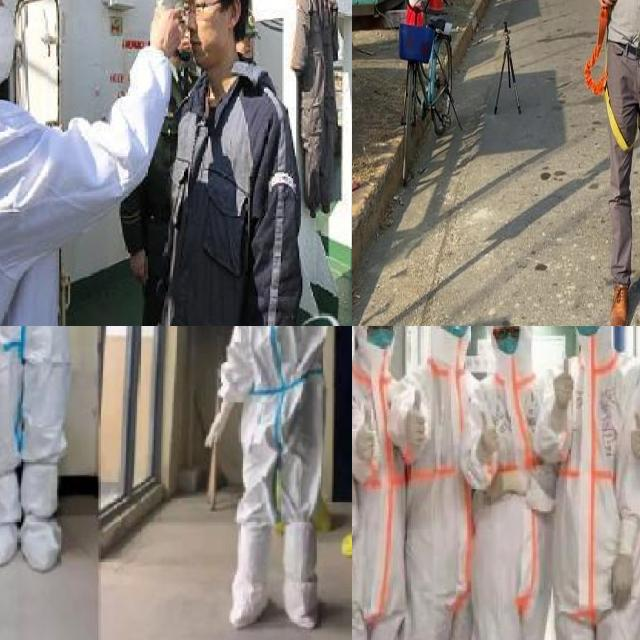Harness: (584, 8, 640, 153)
No_Ear-Protection: (228, 0, 243, 32)
face_mask: (0, 0, 34, 104), (491, 326, 525, 359), (365, 326, 397, 351), (436, 326, 471, 343)
face_nomask: (176, 0, 228, 72)
glasses: (493, 326, 522, 341)
hand_glove: (354, 402, 378, 466), (474, 409, 504, 458), (608, 554, 634, 608), (406, 388, 428, 450), (202, 404, 228, 449), (555, 356, 576, 411), (630, 407, 640, 466)
hand_noglove: (150, 2, 181, 56), (125, 249, 148, 283)
person: (119, 0, 323, 326), (0, 0, 158, 326), (201, 326, 352, 630), (0, 326, 115, 590), (548, 326, 640, 640), (474, 326, 559, 640), (409, 326, 482, 640), (352, 326, 420, 640)
